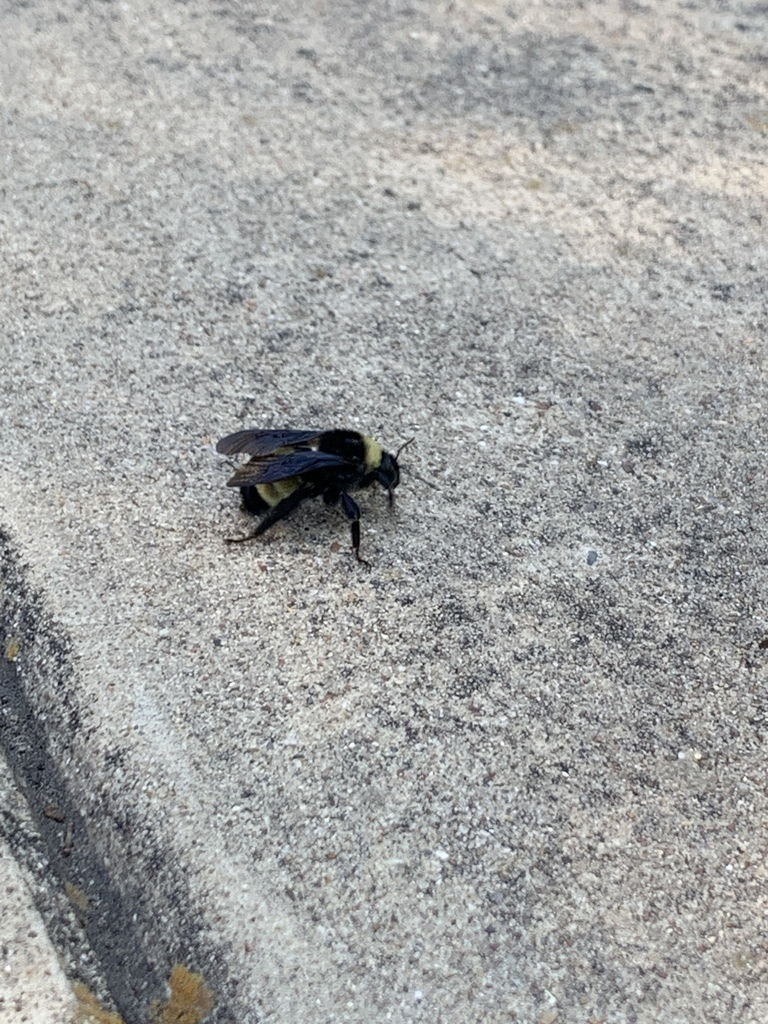bumblebee: (212, 426, 443, 571)
